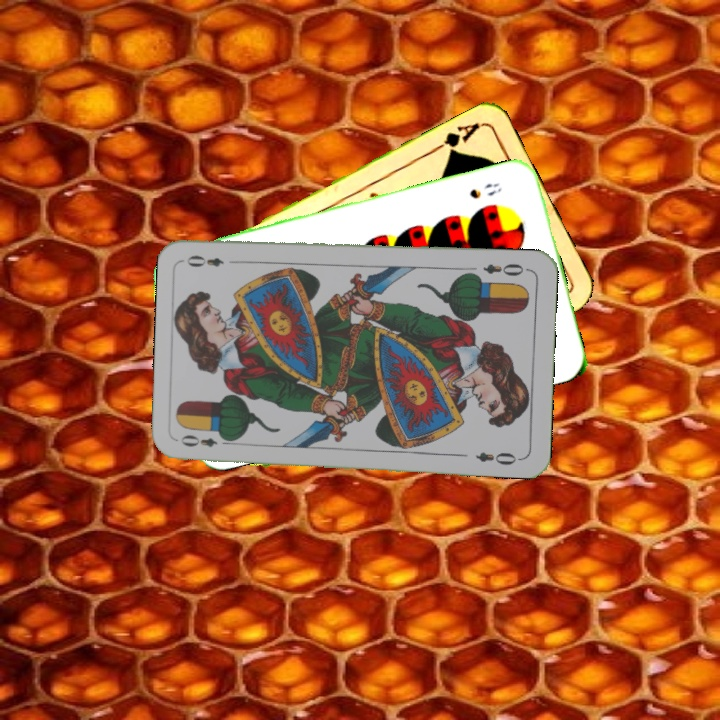EO: (176, 431, 235, 450), (479, 259, 531, 279)
GA: (429, 118, 484, 159)
S8: (465, 179, 504, 201)
